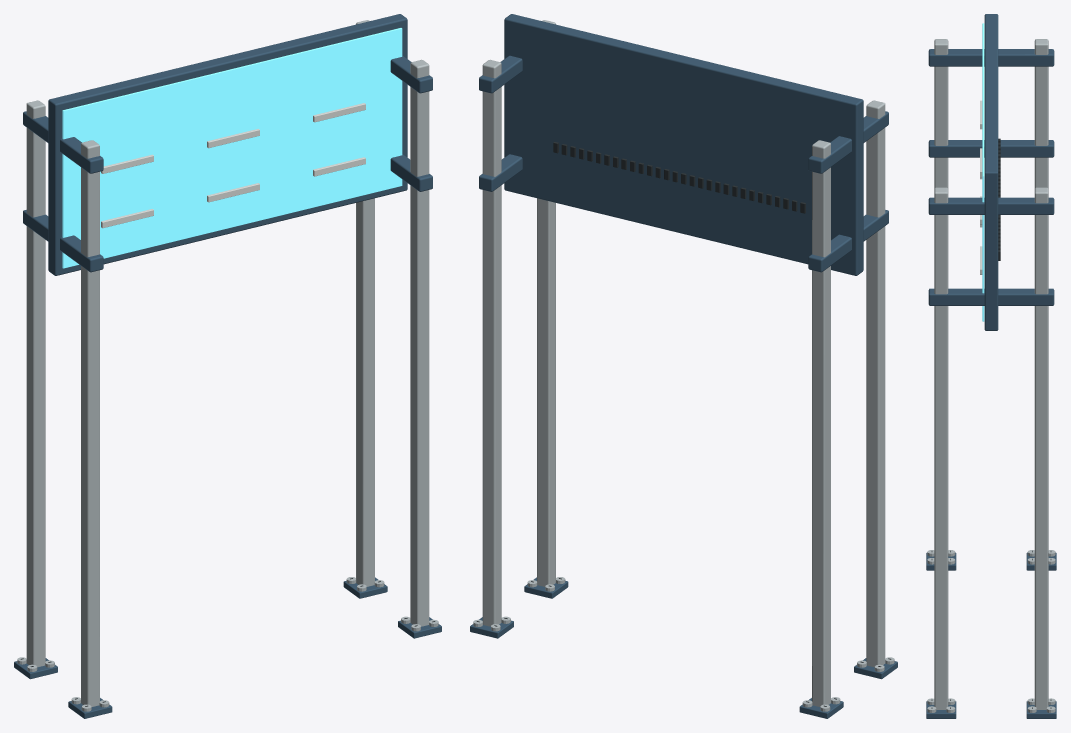
The model's file is container-inspection-and-customs-yard-container-inspec-f5c28c12__29301.glb.
The picture shows the model from 3 angles, left to right: view 1: azimuth 30°, elevation 25°; view 2: azimuth 150°, elevation 25°; view 3: azimuth 270°, elevation 25°; orthographic projection. The views are drawn at different scales.
Parts seen in each view (by area): view 1: container-inspection-and-customs-yard-queue-display; view 2: container-inspection-and-customs-yard-queue-display; view 3: container-inspection-and-customs-yard-queue-display.
Boxes of the visible parts, x1,y1,x2,y2 form: container-inspection-and-customs-yard-queue-display: (14,14,441,718); container-inspection-and-customs-yard-queue-display: (470,14,897,718); container-inspection-and-customs-yard-queue-display: (926,14,1056,718).
Bounding box in the file's own units: 1.52 × 2.4 × 0.52.
